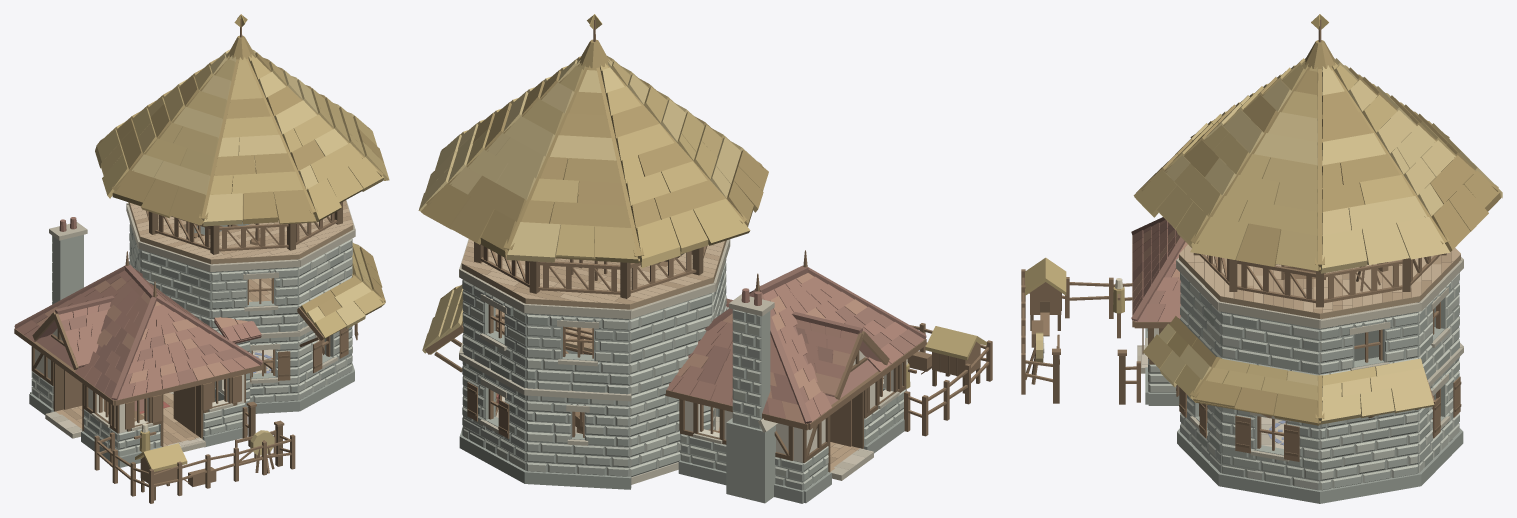
File: mage.glb
3 renders of one model, left to right at view 1: azimuth 30°, elevation 25°; view 2: azimuth 150°, elevation 25°; view 3: azimuth 270°, elevation 25°, orthographic. The views are drawn at different scales.
Visible parts, largest first — view 1: Mage_RoofThatch, Mage_Roof, Mage_Shell, Mage_UpperShell, Mage_Yard, Mage_UpperFloorObservatoryTiles, Mage_UpperGallery, Mage_Door, Mage_UpperFloorObservatory, Mage_FloorGroundTilesBoards, Mage_FloorGroundTilesFlags, Mage_FloorGround (+1 smaller); view 2: Mage_RoofThatch, Mage_Roof, Mage_Shell, Mage_UpperShell, Mage_UpperFloorObservatoryTiles, Mage_Yard, Mage_UpperGallery, Mage_UpperFloorObservatory, Mage_Door, Mage_FloorGround; view 3: Mage_RoofThatch, Mage_Shell, Mage_UpperShell, Mage_Roof, Mage_Yard, Mage_UpperFloorObservatoryTiles, Mage_UpperGallery, Mage_UpperFloorObservatory, Mage_FloorGroundTilesFlags.
Boxes of the visible parts, x1,y1,x2,y2 form: Mage_RoofThatch: (95, 49, 389, 339); Mage_Roof: (14, 14, 384, 405); Mage_Shell: (29, 323, 358, 467); Mage_UpperShell: (126, 200, 355, 332); Mage_Yard: (94, 401, 295, 503); Mage_UpperFloorObservatoryTiles: (130, 200, 353, 259); Mage_UpperGallery: (146, 202, 342, 254); Mage_Door: (64, 370, 195, 433); Mage_UpperFloorObservatory: (128, 202, 353, 264); Mage_FloorGroundTilesBoards: (56, 393, 199, 446); Mage_FloorGroundTilesFlags: (46, 340, 322, 447); Mage_FloorGround: (45, 352, 271, 451); Mage_RoofThatch: (418, 56, 768, 353); Mage_Roof: (425, 14, 926, 503); Mage_Shell: (459, 307, 906, 503); Mage_UpperShell: (459, 239, 730, 395); Mage_UpperFloorObservatoryTiles: (462, 239, 724, 303); Mage_Yard: (904, 323, 992, 436); Mage_UpperGallery: (474, 242, 707, 298); Mage_UpperFloorObservatory: (461, 240, 726, 309); Mage_Door: (830, 400, 851, 446); Mage_FloorGround: (631, 448, 873, 484); Mage_RoofThatch: (1133, 58, 1502, 425); Mage_Shell: (1142, 328, 1463, 503); Mage_UpperShell: (1176, 257, 1463, 379); Mage_Roof: (1131, 14, 1498, 424); Mage_Yard: (1021, 257, 1140, 404); Mage_UpperFloorObservatoryTiles: (1179, 244, 1460, 313); Mage_UpperGallery: (1193, 253, 1446, 307); Mage_UpperFloorObservatory: (1179, 254, 1460, 318); Mage_FloorGroundTilesFlags: (1137, 345, 1285, 448).
Bounding box in the file's own units: 14.65 × 14.43 × 14.62.
